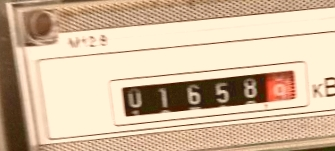0: (124, 85, 144, 108)
1: (154, 83, 171, 108)
5: (212, 78, 231, 104)
6: (183, 80, 204, 106)
8: (240, 75, 259, 98)
9: (270, 79, 288, 102)
screen: (104, 51, 315, 133)
